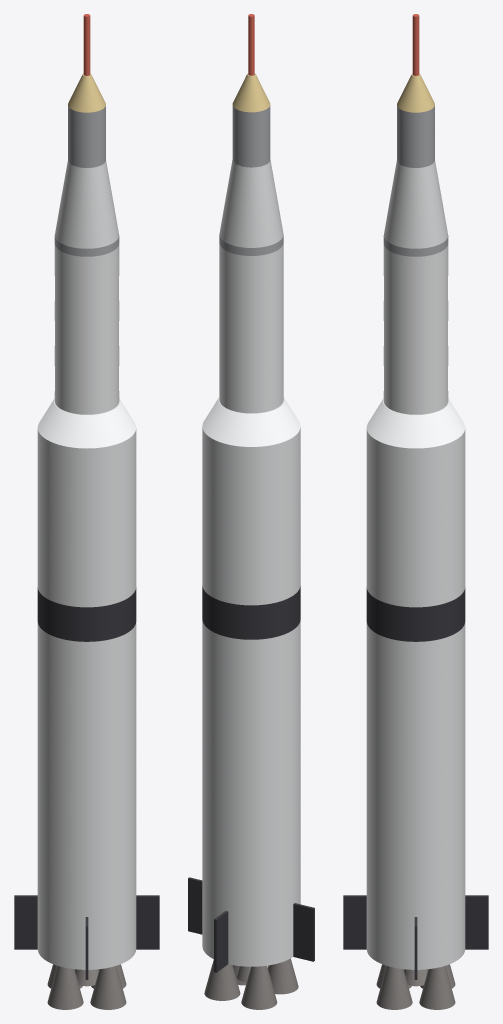
Rendered from moon_rocket.glb.
The picture shows the model from 3 angles, left to right: view 1: azimuth 90°, elevation 25°; view 2: azimuth 150°, elevation 25°; view 3: azimuth 270°, elevation 25°; orthographic projection.
Visible parts, largest first — view 1: s1_stage, s2_stage, s3_stage, sla, s2_skirt, s2_cone, csm_sm, s1_fin_2, s1_fin_4, s1_f1_2, s1_f1_3, csm_cm (+2 smaller); view 2: s1_stage, s2_stage, s3_stage, sla, s2_skirt, s2_cone, csm_sm, s1_fin_3, s1_f1_2, s1_f1_1, csm_cm, s1_fin_2 (+4 smaller); view 3: s1_stage, s2_stage, s3_stage, sla, s2_skirt, s2_cone, csm_sm, s1_fin_2, s1_fin_4, s1_f1_1, s1_f1_4, csm_cm (+2 smaller).
Part boxes in pixels (box(x1,y1,x2,y2)): s1_stage: box(37, 622, 136, 969); s2_stage: box(37, 429, 136, 607); s3_stage: box(54, 243, 119, 414); sla: box(55, 161, 118, 248); s2_skirt: box(37, 587, 136, 641); s2_cone: box(37, 398, 136, 448); csm_sm: box(68, 106, 105, 167); s1_fin_2: box(14, 895, 37, 949); s1_fin_4: box(136, 895, 159, 949); s1_f1_2: box(47, 966, 83, 1009); s1_f1_3: box(90, 966, 126, 1009); csm_cm: box(68, 73, 105, 112); s1_stage: box(202, 620, 300, 966); s2_stage: box(202, 427, 300, 605); s3_stage: box(219, 243, 283, 413); sla: box(219, 160, 283, 247); s2_skirt: box(202, 586, 300, 639); s2_cone: box(202, 397, 300, 446); csm_sm: box(232, 106, 270, 167); s1_fin_3: box(293, 903, 314, 961); s1_f1_2: box(241, 965, 277, 1009); s1_f1_1: box(204, 959, 240, 1000); csm_cm: box(232, 73, 270, 112); s1_fin_2: box(214, 911, 228, 972); s1_stage: box(366, 622, 465, 969); s2_stage: box(366, 429, 465, 607); s3_stage: box(383, 243, 448, 414); sla: box(384, 161, 447, 248); s2_skirt: box(366, 587, 465, 641); s2_cone: box(366, 398, 465, 448); csm_sm: box(397, 106, 434, 167); s1_fin_2: box(465, 895, 488, 949); s1_fin_4: box(343, 895, 366, 949); s1_f1_1: box(419, 966, 455, 1009); s1_f1_4: box(376, 966, 412, 1009); csm_cm: box(397, 73, 434, 112).
Bounding box in the file's own units: 14.9 × 111 × 14.9.
